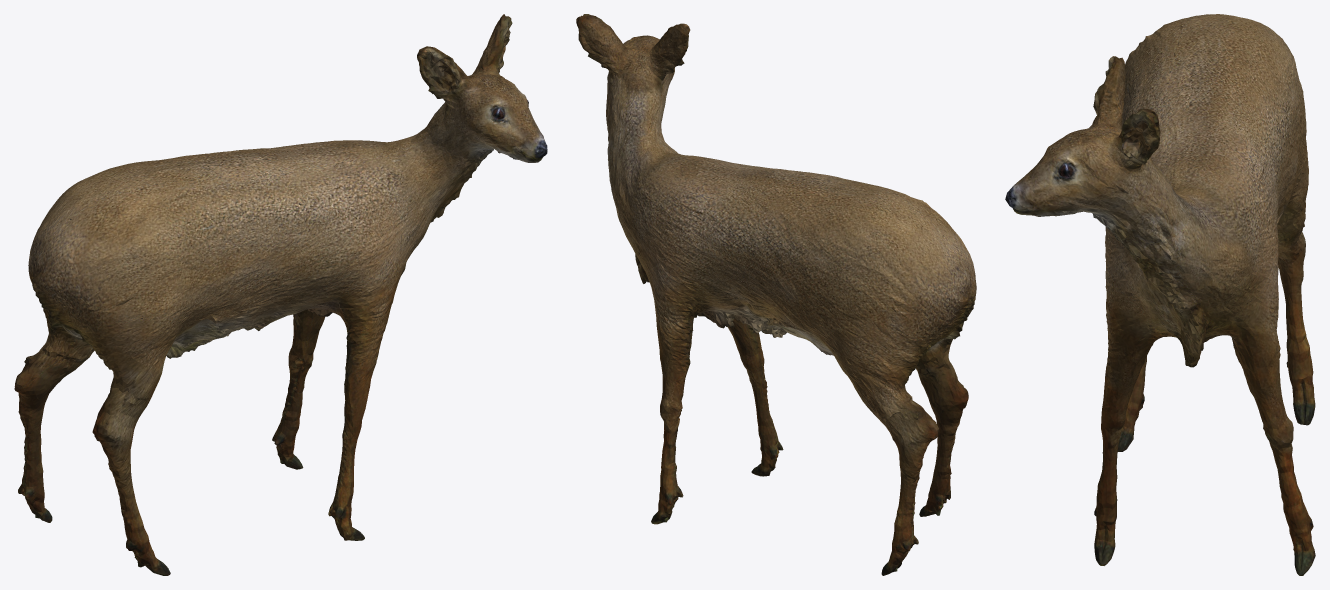
File: Water_deer.glb
3 views of the same model, side by side, from view 1: azimuth 30°, elevation 25°; view 2: azimuth 150°, elevation 25°; view 3: azimuth 270°, elevation 25° (orthographic). The views are drawn at different scales.
Parts seen in each view (by area): view 1: Group49254; view 2: Group49254; view 3: Group49254.
Part boxes in pixels (bbox=[...]): Group49254: bbox=[14, 14, 547, 575]; Group49254: bbox=[576, 14, 976, 575]; Group49254: bbox=[1005, 14, 1315, 575].
Bounding box in the file's own units: 0.7387 × 0.7321 × 0.375.
1 material, 1 textured.
